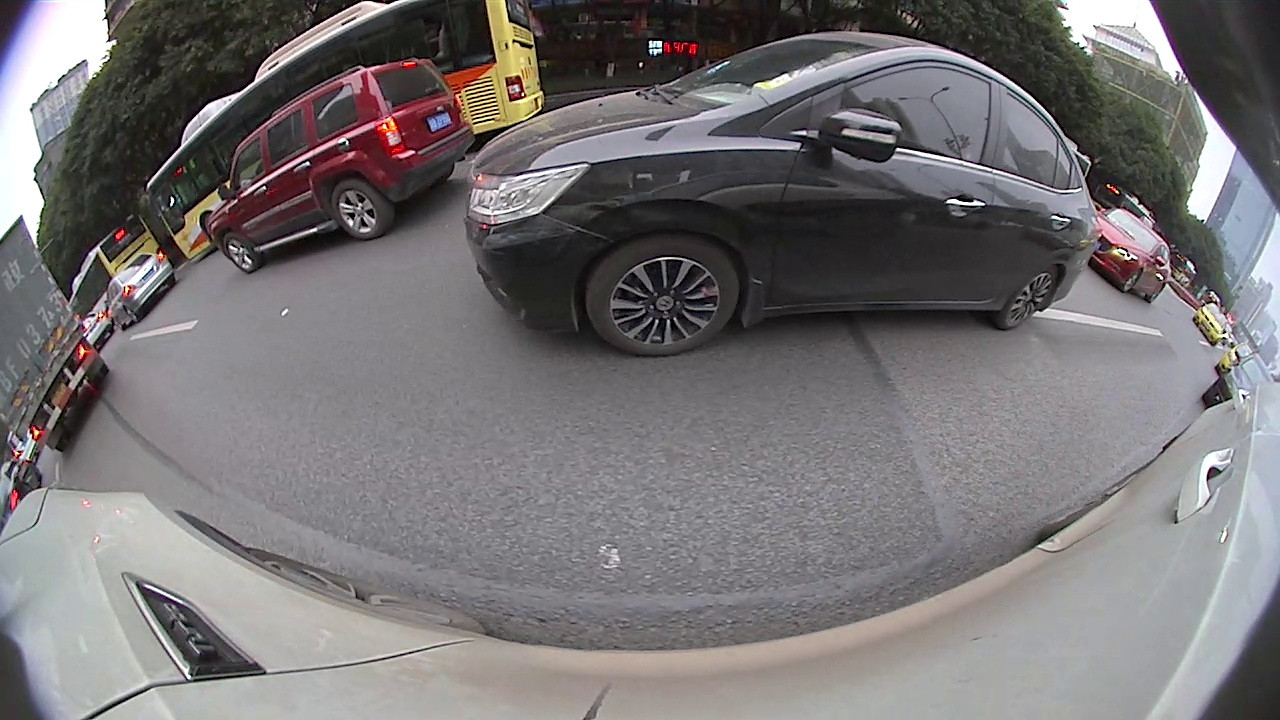bus: (146, 1, 546, 266), (71, 213, 156, 322), (1091, 179, 1157, 228)
car: (467, 31, 1100, 360), (210, 57, 474, 271), (1088, 210, 1174, 301), (103, 249, 176, 331), (1198, 302, 1229, 346)
front: (585, 232, 740, 354), (223, 231, 263, 272), (1117, 269, 1142, 294)
rear: (990, 266, 1057, 330), (331, 179, 395, 238), (126, 307, 141, 322)
truck: (3, 214, 110, 458)
